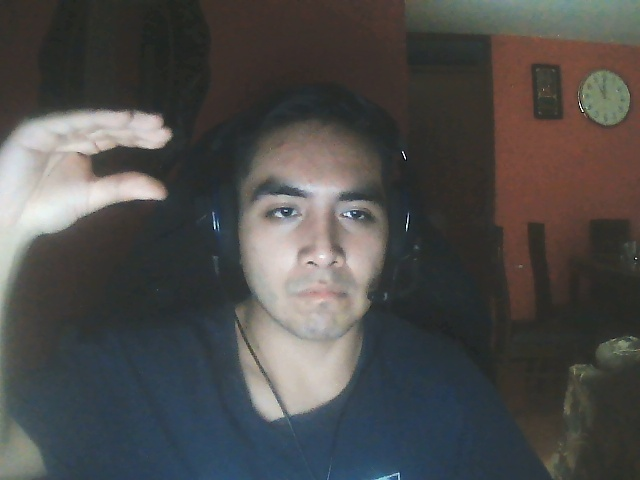no: (5, 103, 184, 234)
